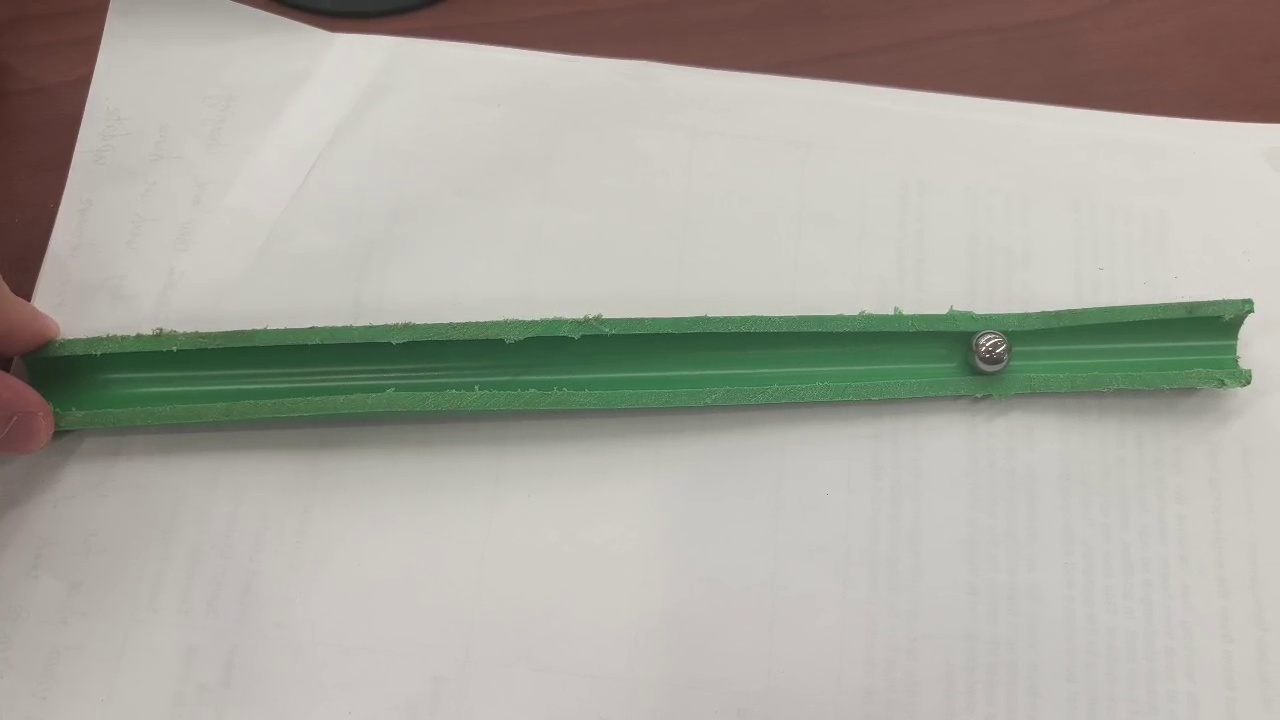ball: (973, 331, 1009, 372)
